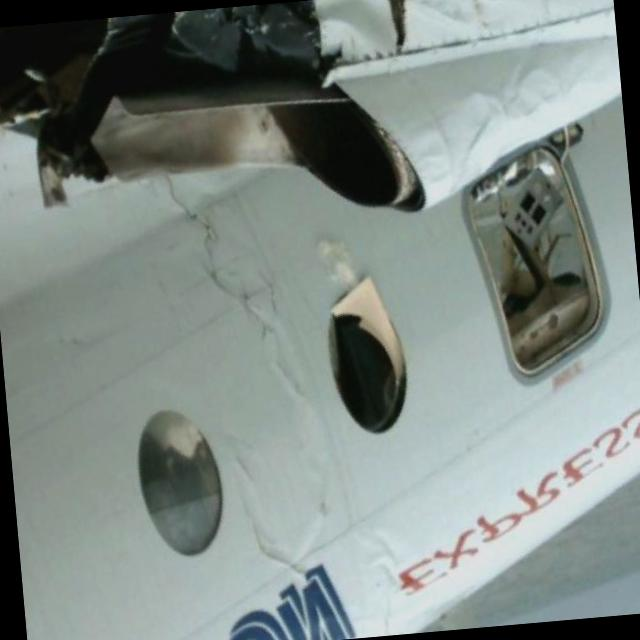crack: (158, 157, 318, 420), (229, 455, 310, 581), (381, 0, 414, 56)
